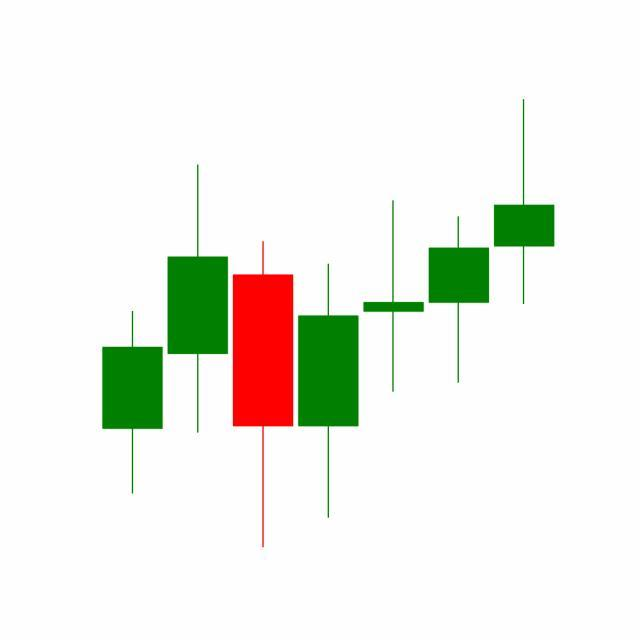Up-Down Gap Side-by-side White Lines: (295, 198, 492, 523)
